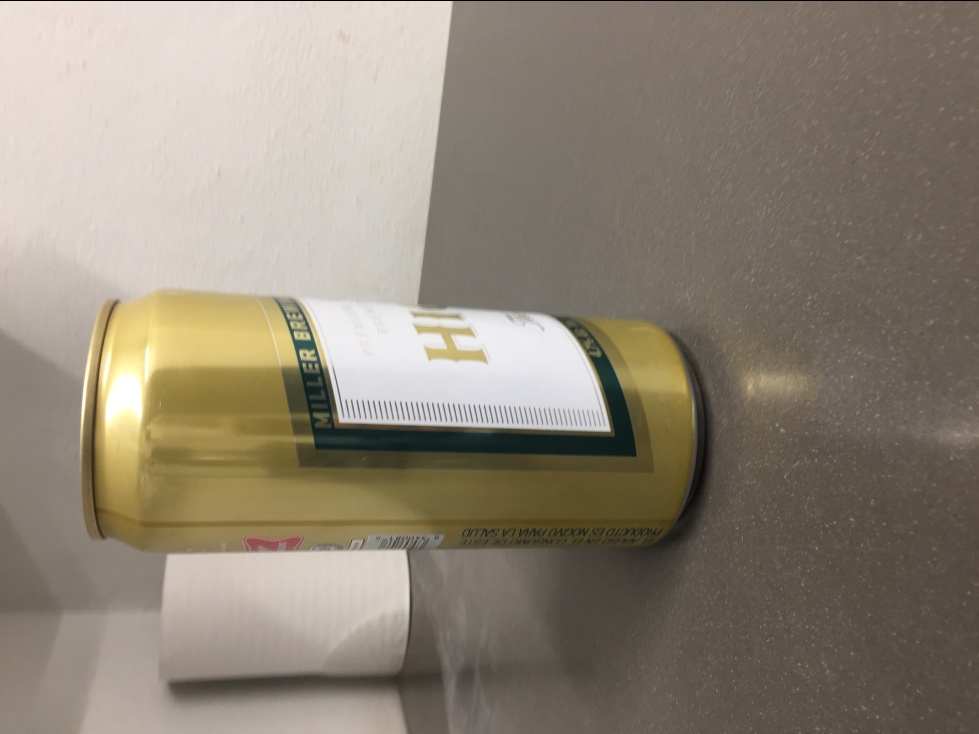miller: (79, 283, 705, 550)
